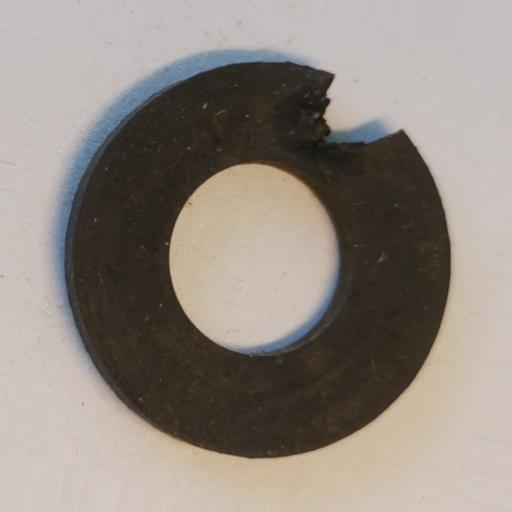defect: (271, 74, 405, 185)
